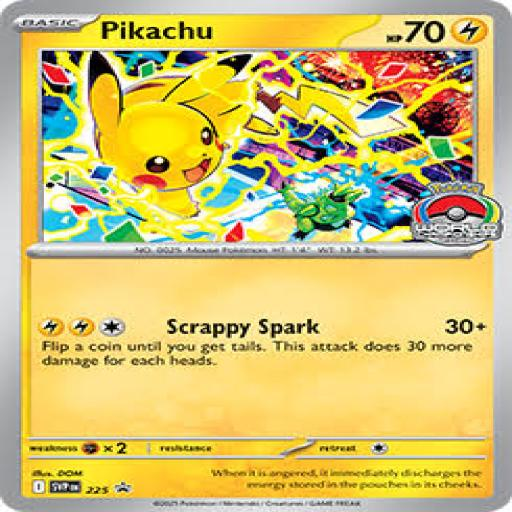Pikachu: (86, 50, 408, 219)
